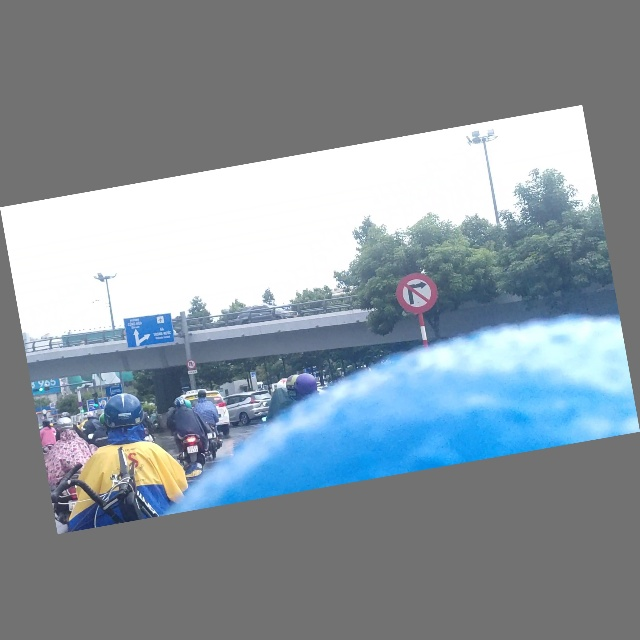P.123b: (394, 270, 441, 318)
P.124b1: (185, 359, 197, 371)
